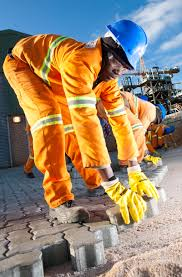Hard Hat: (105, 15, 149, 67), (156, 101, 166, 119)
High Viz: (15, 41, 98, 94)
